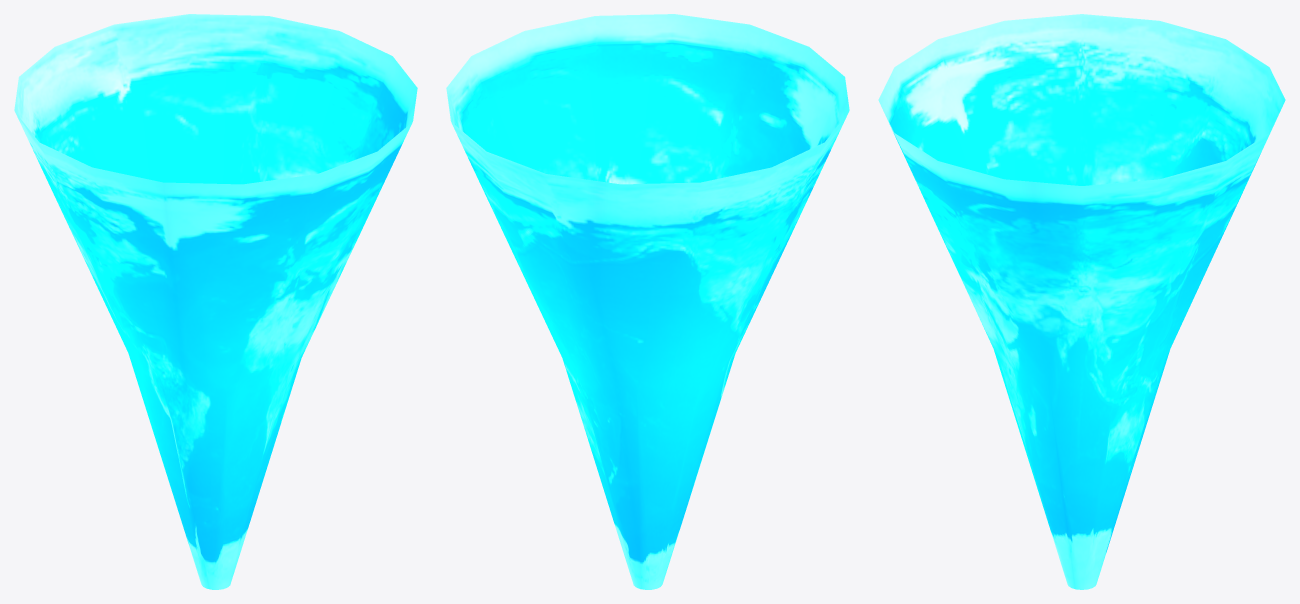
3 views of the same model, side by side, from view 1: azimuth 30°, elevation 25°; view 2: azimuth 150°, elevation 25°; view 3: azimuth 270°, elevation 25° (orthographic).
Parts seen in each view (by area): view 1: Cylinder008; view 2: Cylinder008; view 3: Cylinder008.
Boxes of the visible parts, x1,y1,x2,y2 form: Cylinder008: (14, 14, 417, 589); Cylinder008: (446, 14, 849, 589); Cylinder008: (878, 14, 1285, 589).
Bounding box in the file's own units: 16.68 × 21.85 × 16.68.
1 material, 1 textured.
